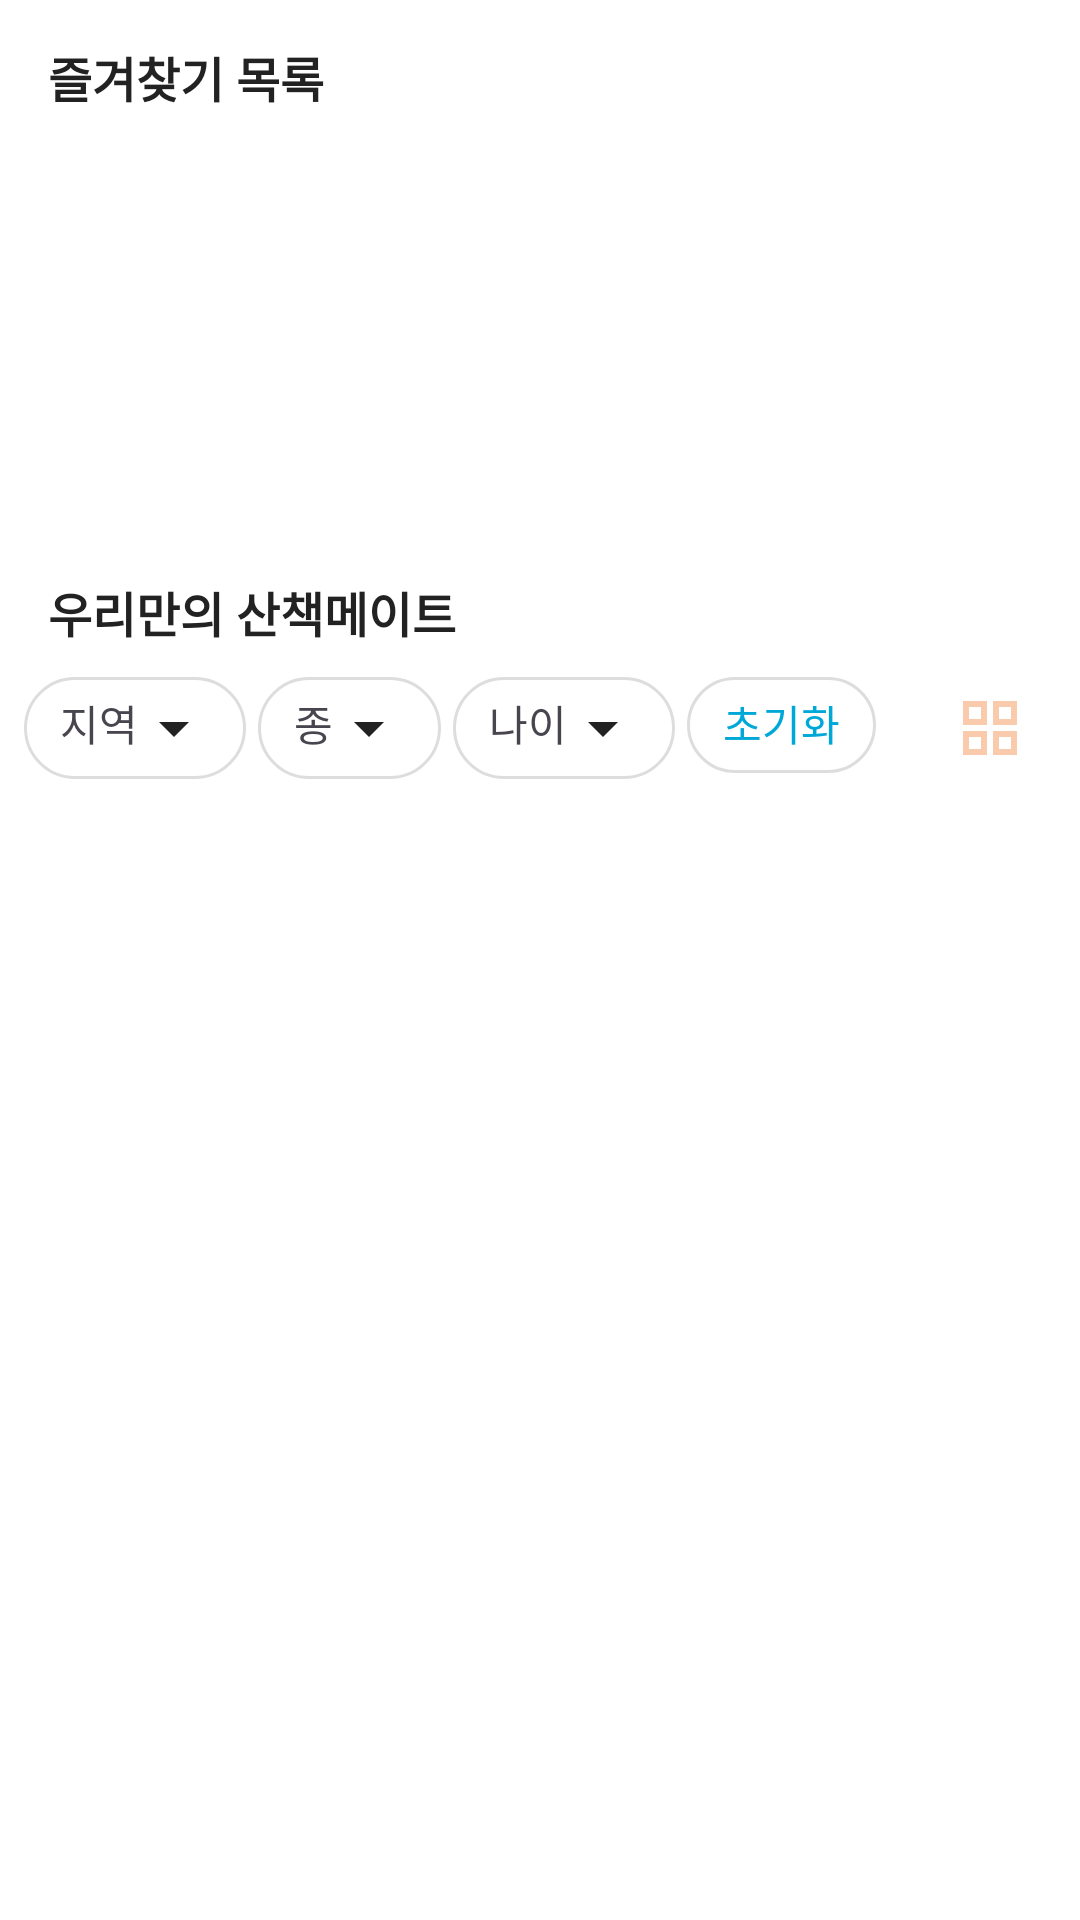

Named icons in this screenshot (1080px x 1920px) and their bounding boxes, (x1, y1, x2, y2):
grid view: (963, 701, 1017, 755)
